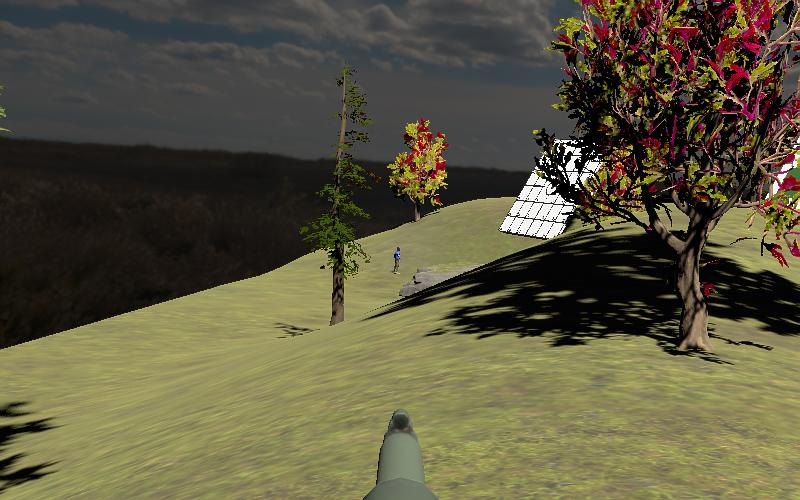Human: (389, 245, 404, 275)
